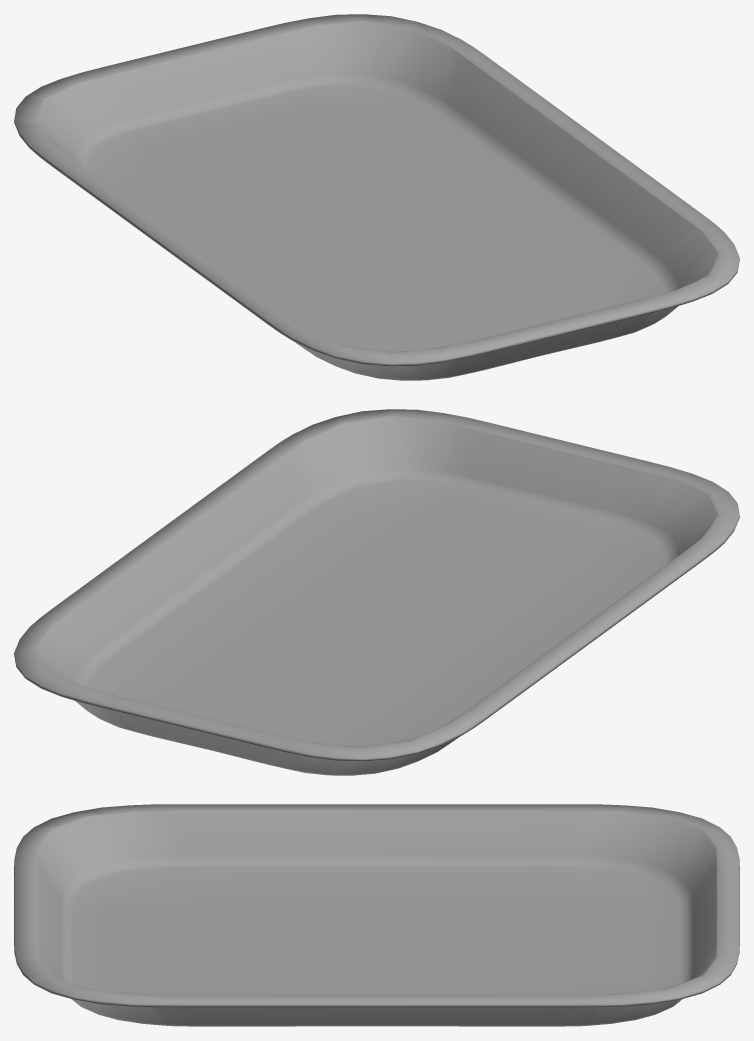
Rendered from MedTray.fbx.
The picture shows the model from 3 angles, top to bottom: view 1: azimuth 30°, elevation 25°; view 2: azimuth 150°, elevation 25°; view 3: azimuth 270°, elevation 25°; orthographic projection. The views are drawn at different scales.
Visible parts, largest first — view 1: Plane.003; view 2: Plane.003; view 3: Plane.003.
Part boxes in pixels (<box>): Plane.003: <box>14,14,739,380</box>; Plane.003: <box>14,409,739,775</box>; Plane.003: <box>14,804,739,1026</box>.
Bounding box in the file's own units: 430 × 47.01 × 659.
